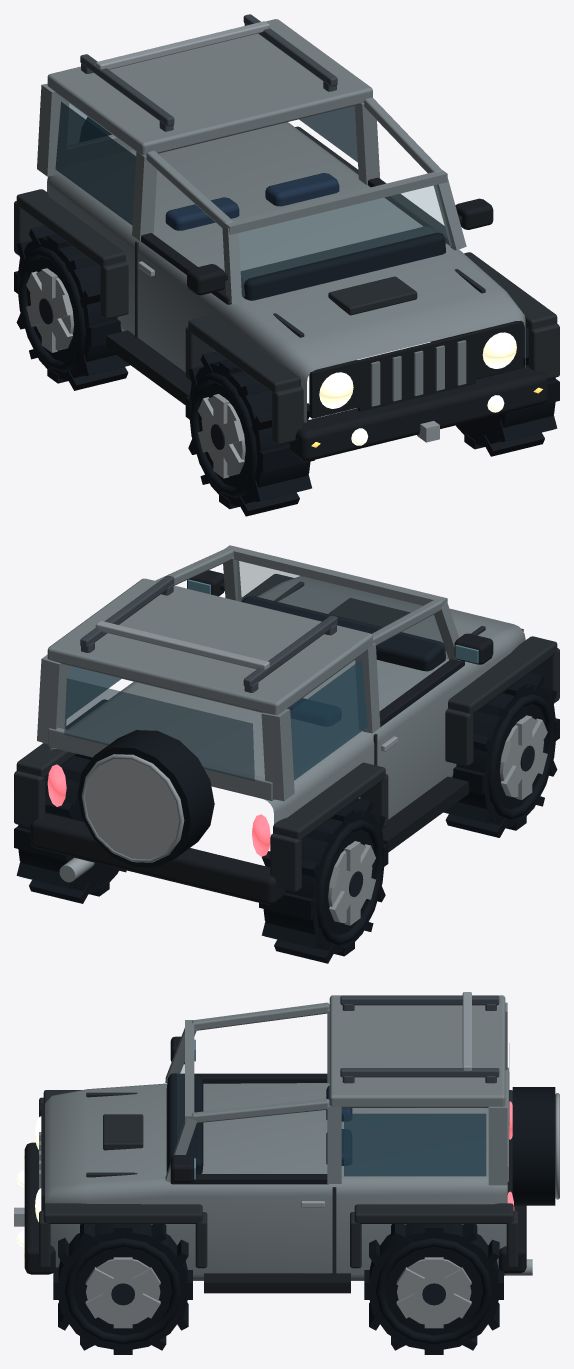
Rendered from silver-surfer.glb.
3 renders of one model, top to bottom at view 1: azimuth 30°, elevation 25°; view 2: azimuth 150°, elevation 25°; view 3: azimuth 270°, elevation 25°, orthographic. The views are drawn at different scales.
Visible parts, largest first — view 1: hull_merged, tire_merged (×3), hood-seam_merged, low-windscreen, grille-frame_merged, front-bumper_merged, side-glass_merged, dashboard, rim_merged (×2), seat-back_merged, roof-rail_merged, tow-hook_merged (+3 smaller); view 2: hull_merged, tire_merged (×3), hood-seam_merged, rear-glass, spare-cover, front-bumper_merged, side-glass_merged, low-windscreen, spare-tire, rim_merged (×2), tow-hook_merged, dashboard (+6 smaller); view 3: hull_merged, tire_merged (×2), hood-seam_merged, side-glass_merged, rim_merged (×2), spare-tire, grille-frame_merged, roof-rail_merged, front-bumper_merged, door-top-trim_merged, dashboard, tow-hook_merged (+3 smaller).
Boxes of the visible parts, x1,y1,x2,y2 form: hull_merged: (37, 19, 525, 422); tire_merged (×3): (14, 225, 559, 516); hood-seam_merged: (14, 126, 559, 444); low-windscreen: (239, 185, 451, 296); grille-frame_merged: (106, 320, 523, 418); front-bumper_merged: (289, 366, 547, 461); side-glass_merged: (55, 101, 357, 225); dashboard: (240, 226, 445, 300); rim_merged (×2): (26, 268, 245, 478); seat-back_merged: (165, 173, 339, 230); roof-rail_merged: (80, 14, 337, 131); tow-hook_merged: (95, 21, 439, 442); hull_merged: (37, 545, 525, 824); tire_merged (×3): (14, 673, 559, 963); hood-seam_merged: (14, 573, 559, 891); rear-glass: (64, 678, 254, 781); spare-cover: (84, 759, 179, 859); front-bumper_merged: (30, 813, 285, 904); side-glass_merged: (67, 659, 367, 780); low-windscreen: (237, 560, 448, 658); spare-tire: (77, 730, 214, 867); rim_merged (×2): (328, 715, 547, 925); tow-hook_merged: (59, 621, 397, 882); dashboard: (241, 595, 445, 671); hull_merged: (39, 995, 508, 1280); tire_merged (×2): (53, 1224, 503, 1354); hood-seam_merged: (39, 1090, 518, 1273); side-glass_merged: (344, 1113, 486, 1176); rim_merged (×2): (85, 1257, 471, 1328); spare-tire: (512, 1087, 555, 1205); grille-frame_merged: (41, 1103, 350, 1293); roof-rail_merged: (340, 995, 499, 1083); front-bumper_merged: (24, 1142, 526, 1274); door-top-trim_merged: (170, 1073, 328, 1184); dashboard: (166, 1073, 203, 1173); tow-hook_merged: (14, 992, 559, 1275).
Size of the model in its own units: 2.74 by 2.42 by 4.6.
